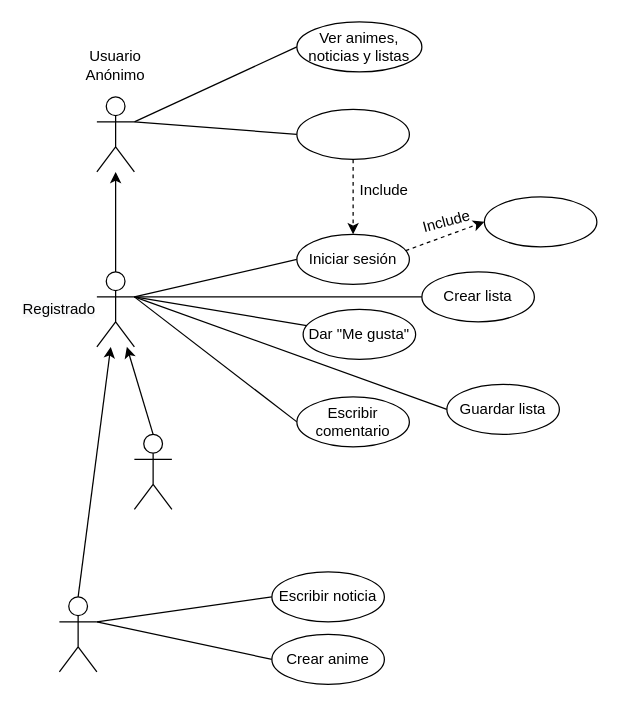
Image size: 619x720. Some labels were removed from this diagram. Each missing label, with the centre of its shape:
"Administrador" goes at (77,634).
"Borrar cuenta" goes at (540,221).
"Estándar" goes at (152,471).
"Registrarse" goes at (352,133).
